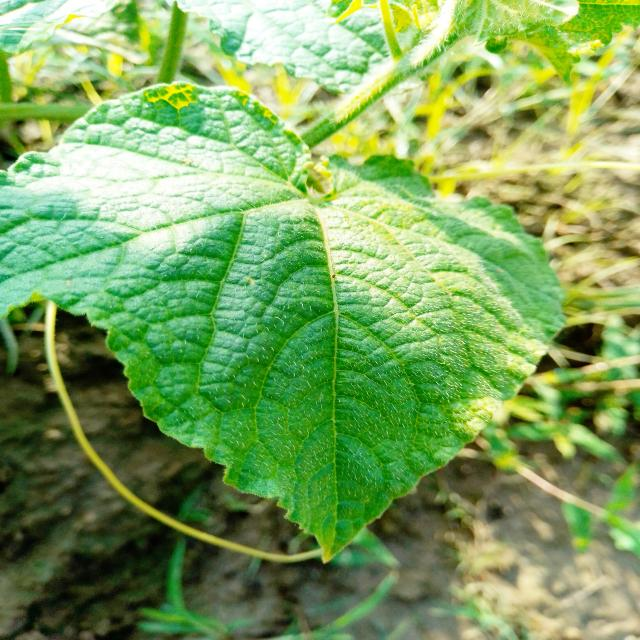Fresh-Leaf: (0, 81, 567, 564)
